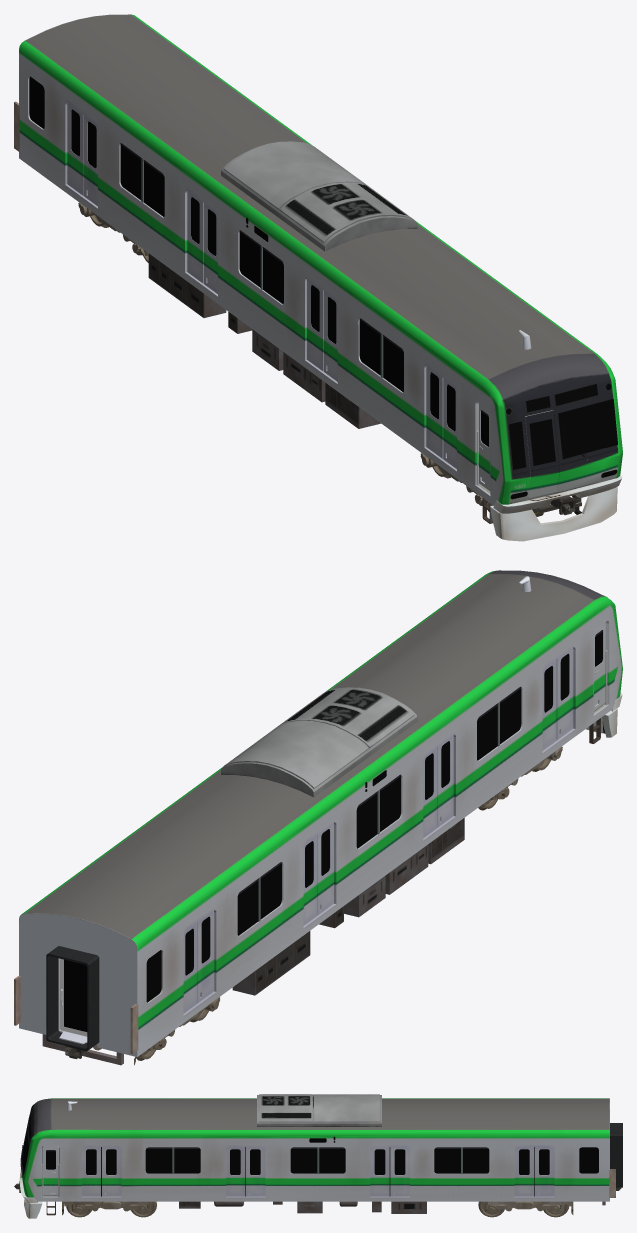
The model's file is Kuha1001.fbx.
3 renders of one model, top to bottom at view 1: azimuth 30°, elevation 25°; view 2: azimuth 150°, elevation 25°; view 3: azimuth 270°, elevation 25°, orthographic. The views are drawn at different scales.
Parts seen in each view (by area): view 1: kuha1001_Body_Static, kuha1001_Windows_Static, door_L_02, door_L_04, door_L_06, door_L_07, door_R_02, door_R_06, door_R_07, door_R_04, jomuindoorR_Mesh; view 2: kuha1001_Body_Static, kuha1001_Windows_Static, kantsutobira, door_R_02, door_R_07, door_R_06, door_R_04, door_L_04, door_L_07, door_L_02, door_L_06, jomuindoorR_Mesh; view 3: kuha1001_Body_Static, kuha1001_Windows_Static, door_R_01, door_R_03, door_L_08, door_R_08, door_L_01, door_L_03, door_L_05, door_R_05, jomuindoorL_Mesh.
Boxes of the visible parts, left/top/right/bottom form: kuha1001_Body_Static: left=14, top=14, right=622, bottom=541; kuha1001_Windows_Static: left=29, top=76, right=617, bottom=499; door_L_02: left=426, top=366, right=443, bottom=458; door_L_04: left=307, top=278, right=323, bottom=371; door_L_06: left=187, top=191, right=203, bottom=283; door_L_07: left=67, top=103, right=83, bottom=195; door_R_02: left=443, top=378, right=456, bottom=468; door_R_06: left=204, top=203, right=217, bottom=293; door_R_07: left=84, top=115, right=97, bottom=206; door_R_04: left=324, top=291, right=337, bottom=381; jomuindoorR_Mesh: left=479, top=403, right=490, bottom=491; kuha1001_Body_Static: left=14, top=570, right=622, bottom=1065; kuha1001_Windows_Static: left=146, top=688, right=521, bottom=1002; kantsutobira: left=60, top=958, right=87, bottom=1036; door_R_02: left=556, top=647, right=573, bottom=739; door_R_07: left=197, top=910, right=214, bottom=1002; door_R_06: left=317, top=822, right=333, bottom=915; door_R_04: left=437, top=735, right=453, bottom=827; door_L_04: left=423, top=747, right=437, bottom=837; door_L_07: left=183, top=922, right=197, bottom=1013; door_L_02: left=542, top=659, right=556, bottom=750; door_L_06: left=303, top=835, right=317, bottom=925; jomuindoorR_Mesh: left=593, top=622, right=605, bottom=711; kuha1001_Body_Static: left=14, top=1094, right=622, bottom=1218; kuha1001_Windows_Static: left=22, top=1110, right=598, bottom=1174; door_R_01: left=101, top=1147, right=121, bottom=1196; door_R_03: left=245, top=1147, right=265, bottom=1196; door_L_08: left=514, top=1147, right=534, bottom=1196; door_R_08: left=534, top=1147, right=554, bottom=1196; door_L_01: left=82, top=1147, right=101, bottom=1196; door_L_03: left=226, top=1147, right=245, bottom=1196; door_L_05: left=370, top=1147, right=389, bottom=1196; door_R_05: left=390, top=1147, right=409, bottom=1196; jomuindoorL_Mesh: left=42, top=1146, right=58, bottom=1196.
Size of the model in its own units: 2.86 by 4.16 by 20.69.
